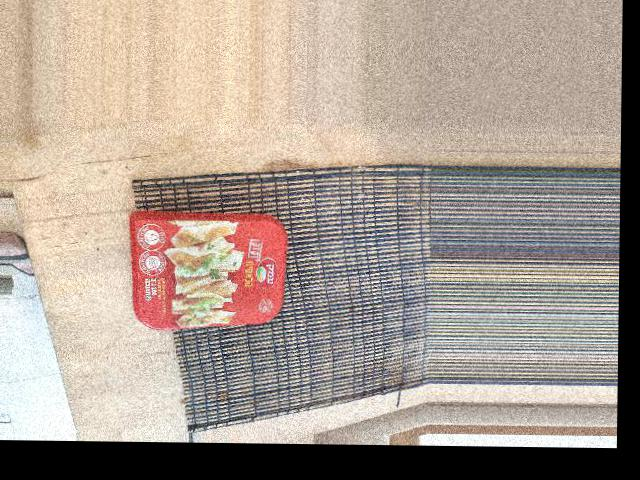cheese: (126, 227, 293, 338)
